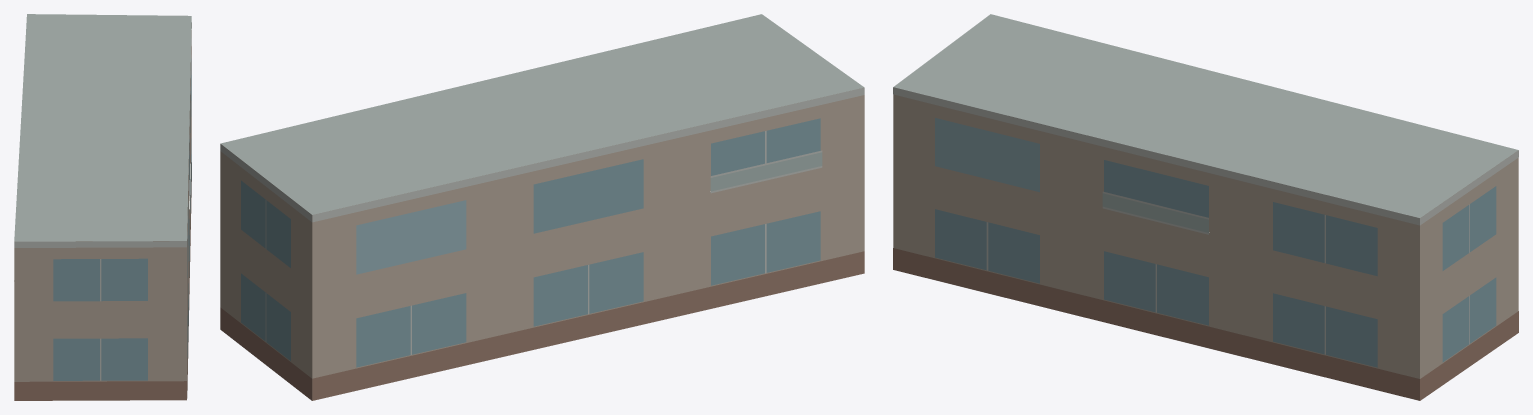
Rendered from survey-upis-32628943.glb.
3 renders of one model, left to right at view 1: azimuth 30°, elevation 25°; view 2: azimuth 150°, elevation 25°; view 3: azimuth 270°, elevation 25°, orthographic. The views are drawn at different scales.
Parts seen in each view (by area): view 1: survey-upis-32628943.tmp; view 2: survey-upis-32628943.tmp; view 3: survey-upis-32628943.tmp.
Part boxes in pixels (bbox=[...]): survey-upis-32628943.tmp: bbox=[14, 14, 191, 400]; survey-upis-32628943.tmp: bbox=[220, 14, 864, 400]; survey-upis-32628943.tmp: bbox=[893, 14, 1518, 400].
Bounding box in the file's own units: 14.64 × 6.1 × 18.95.
